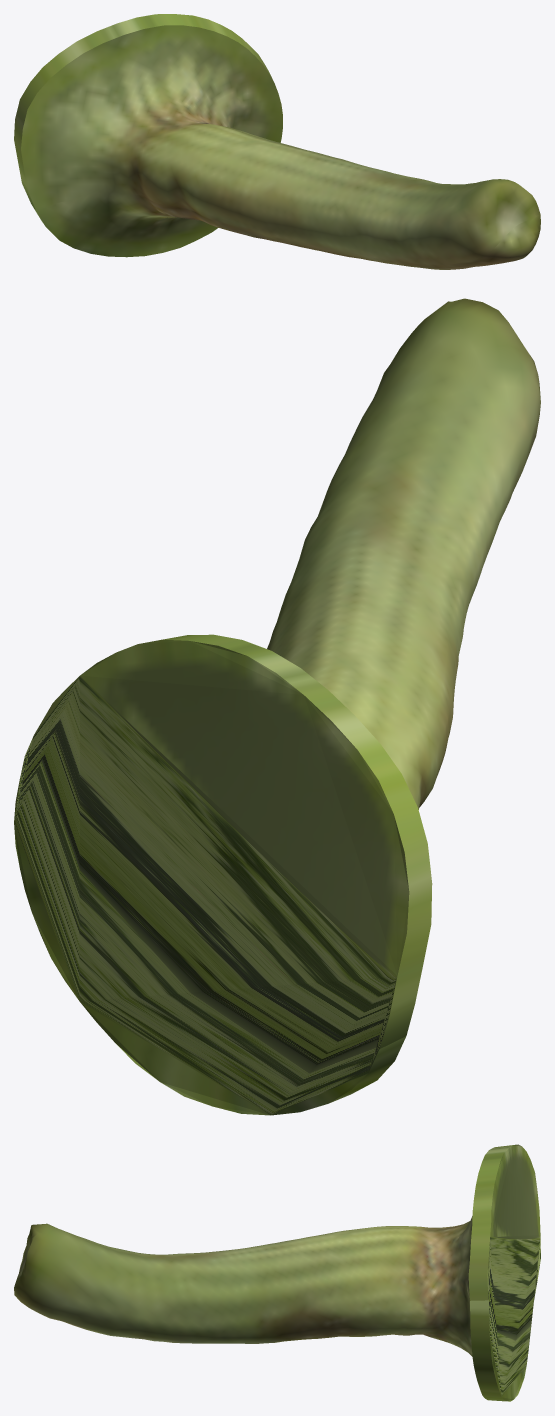
File: WatermelonStalk.obj
The picture shows the model from 3 angles, top to bottom: view 1: azimuth 30°, elevation 25°; view 2: azimuth 150°, elevation 25°; view 3: azimuth 270°, elevation 25°; orthographic projection. The views are drawn at different scales.
Visible parts, largest first — view 1: WatermelonStalk; view 2: WatermelonStalk; view 3: WatermelonStalk.
Part boxes in pixels (bbox=[...]): WatermelonStalk: bbox=[14, 14, 540, 269]; WatermelonStalk: bbox=[14, 298, 540, 1115]; WatermelonStalk: bbox=[14, 1144, 540, 1401].
Bounding box in the file's own units: 0.0301 × 0.0259 × 0.0537.
Materials: 1 (1 with a texture image).
